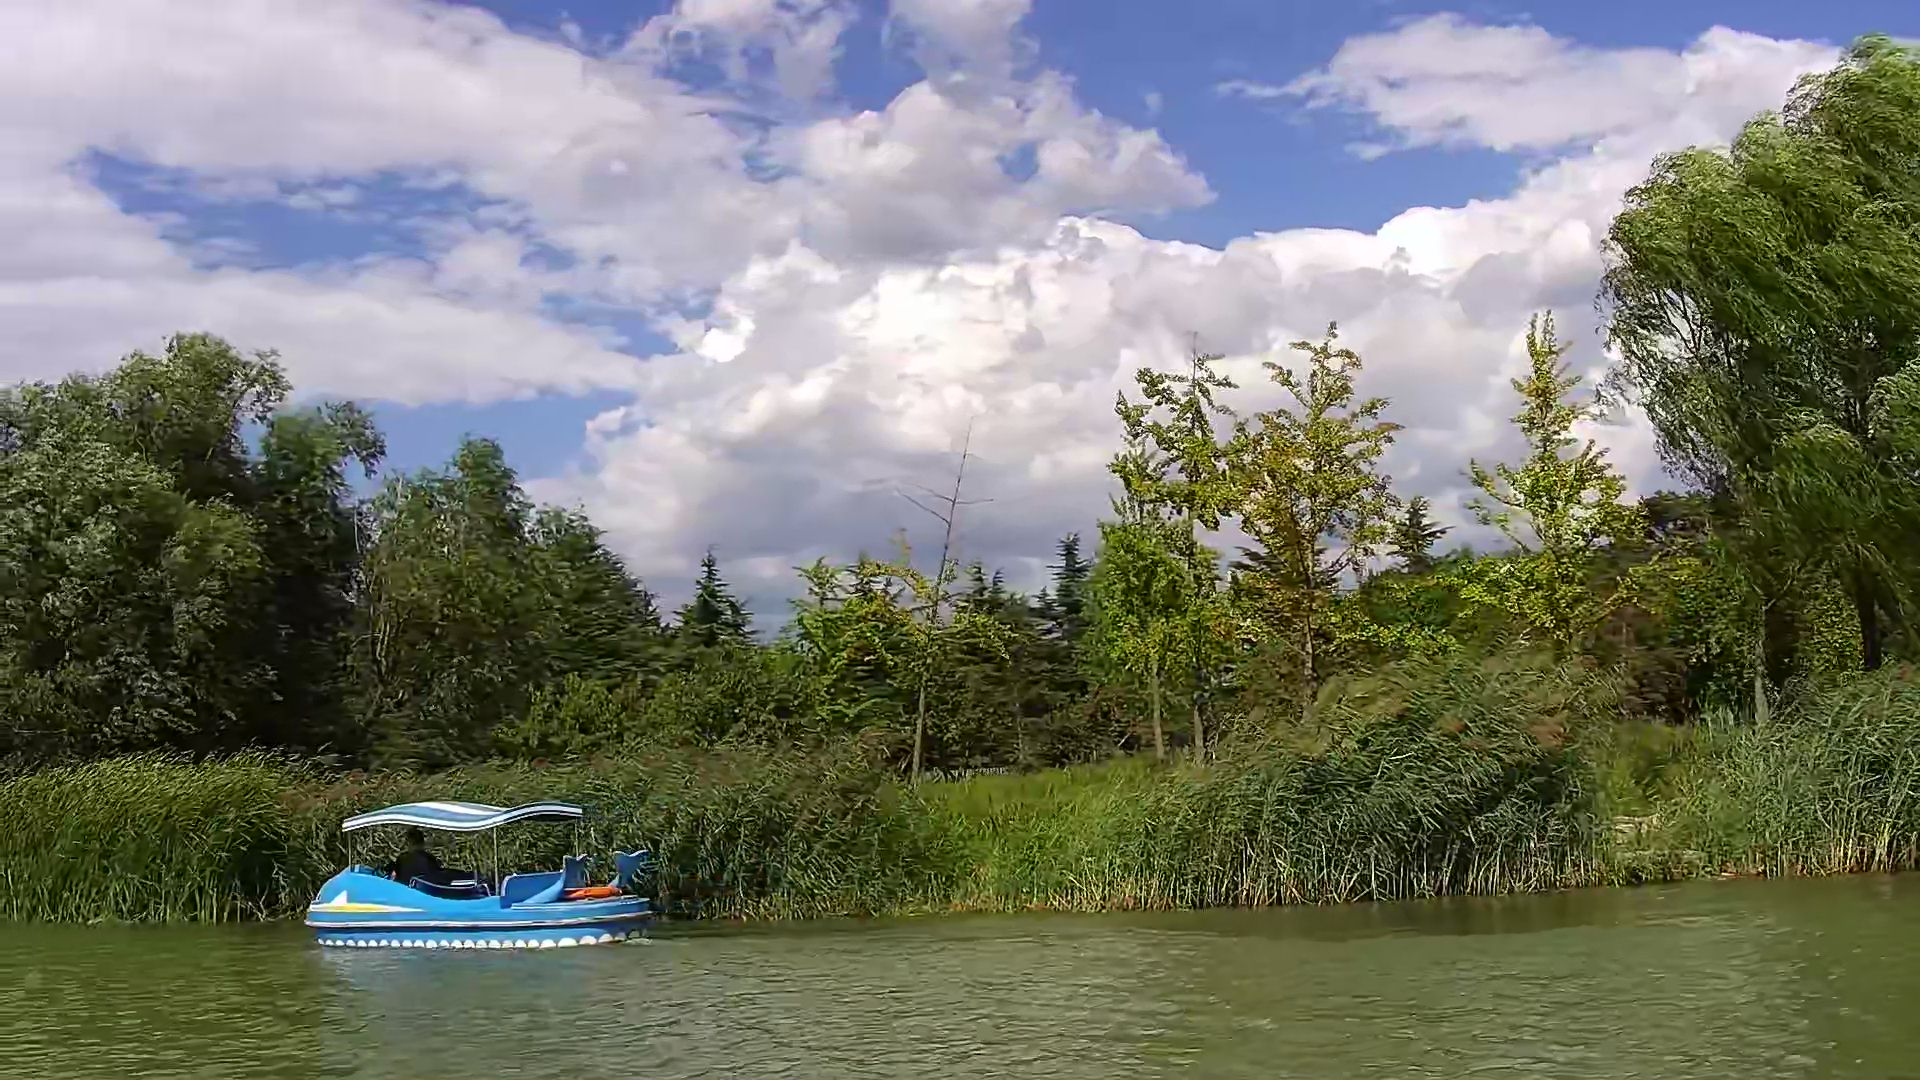boat: (304, 799, 653, 956)
person: (391, 829, 450, 899)
